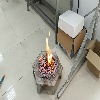fire: (40, 30, 53, 72)
